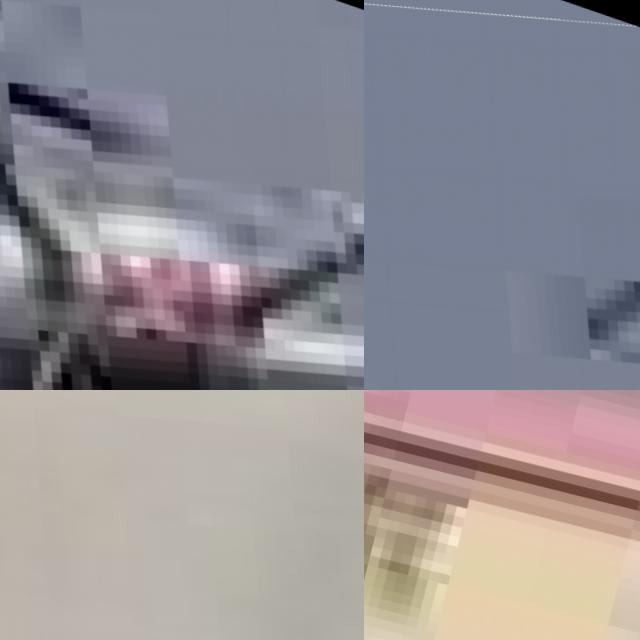0: (0, 0, 364, 390), (364, 0, 640, 390)
drone: (0, 390, 364, 640)
